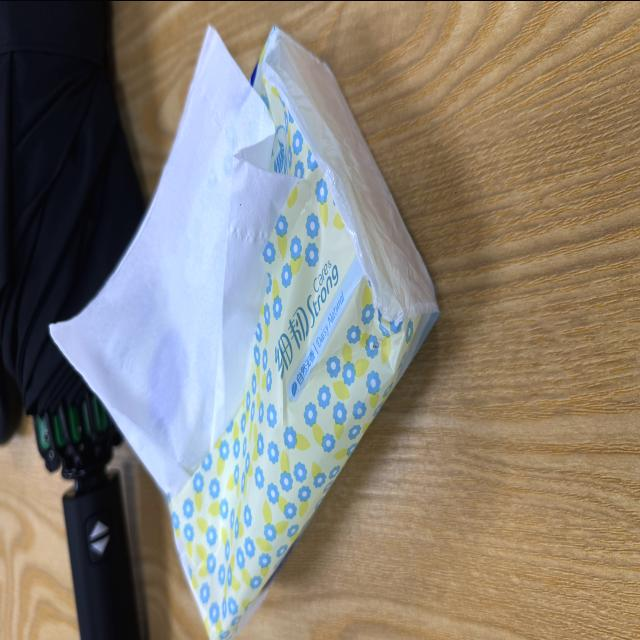tissue: (52, 28, 437, 638), (171, 29, 437, 638), (51, 27, 294, 491)
